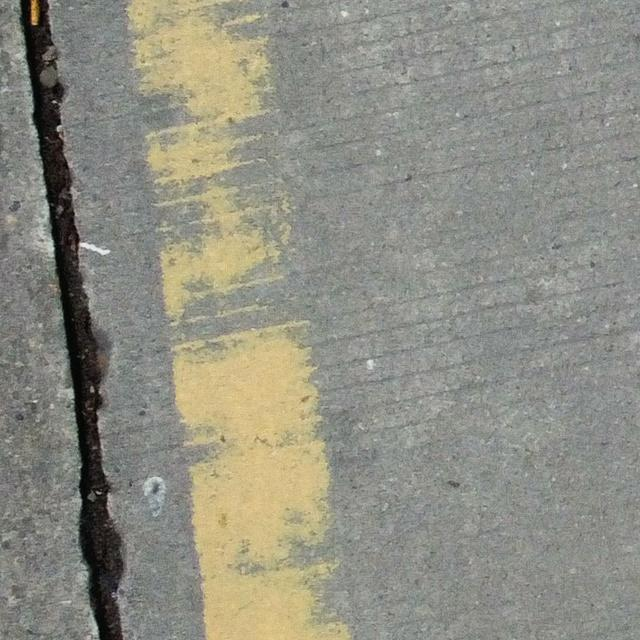LongitudinalCrack: (19, 2, 130, 640)
